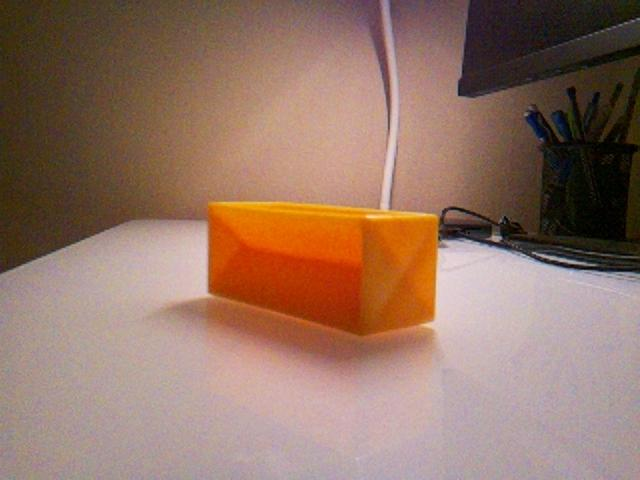yellow: (205, 199, 440, 337)
